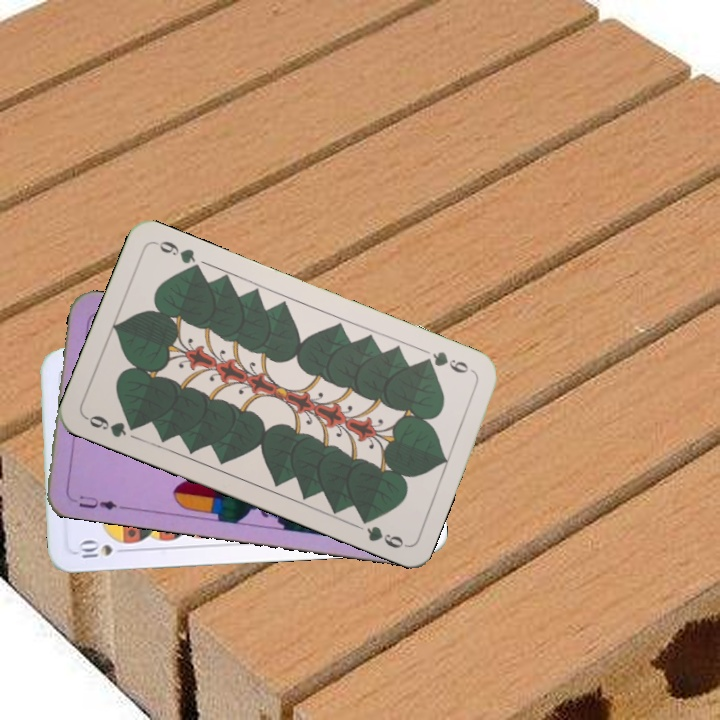EU: (75, 491, 126, 513)
G9: (81, 411, 142, 440), (417, 347, 471, 376)
S10: (74, 537, 132, 561)
